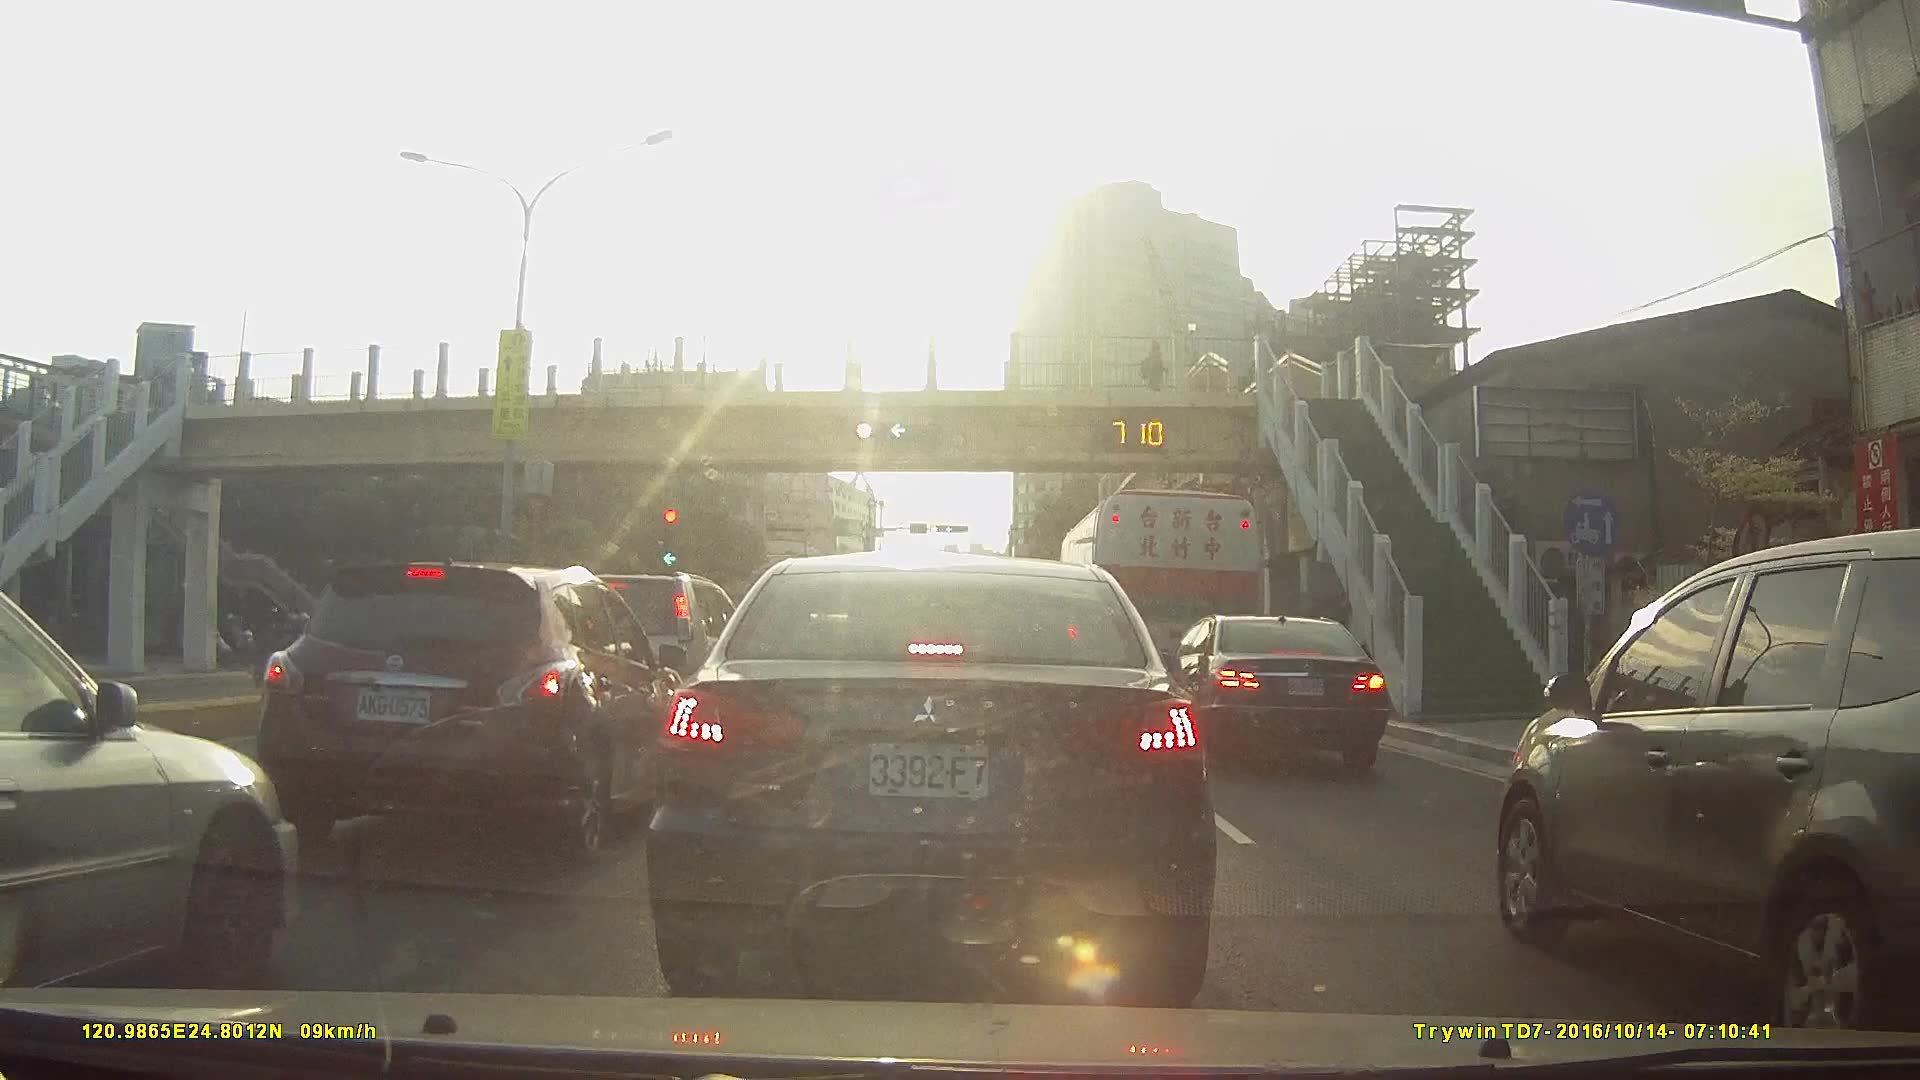pedestrian: (1139, 339, 1166, 395)
rider: (252, 601, 300, 689), (211, 613, 268, 668)
vehicle: (643, 552, 1218, 1004), (1486, 525, 1920, 1047), (254, 556, 694, 868), (0, 582, 301, 1004), (1056, 485, 1265, 727), (1153, 614, 1391, 773)
